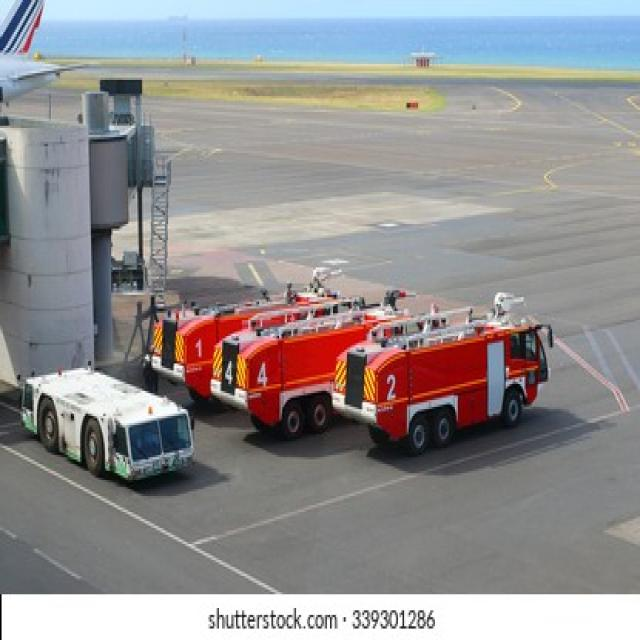emergency: (336, 293, 552, 453), (213, 289, 409, 438), (149, 267, 340, 399)
